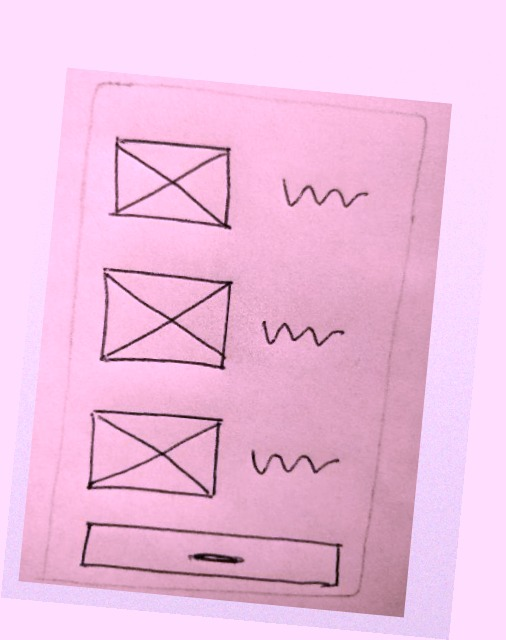button: (71, 512, 347, 598)
image: (87, 261, 243, 382), (73, 401, 232, 510), (100, 128, 242, 240)
text: (270, 166, 374, 227), (254, 307, 355, 363), (244, 438, 344, 491)
